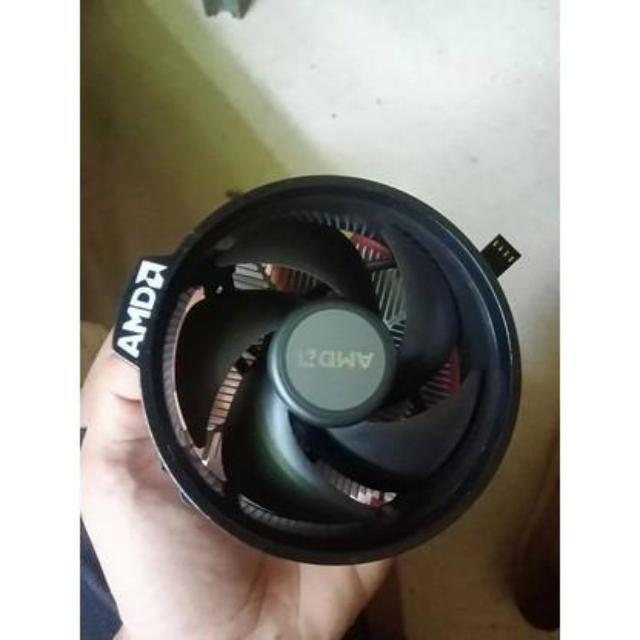CPU_Fan: (124, 179, 522, 550)
